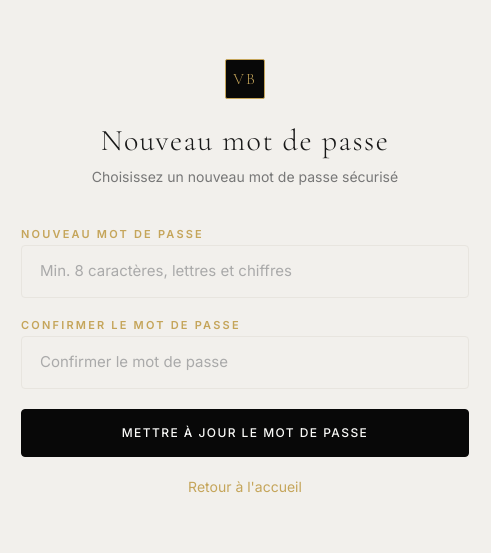
Page de changement du mot de passe › affiche en français le refus d un mot de passe compromis
In the password field labelled "Nouveau mot de passe": point(245, 272) [21,245,469,298], type "password123"
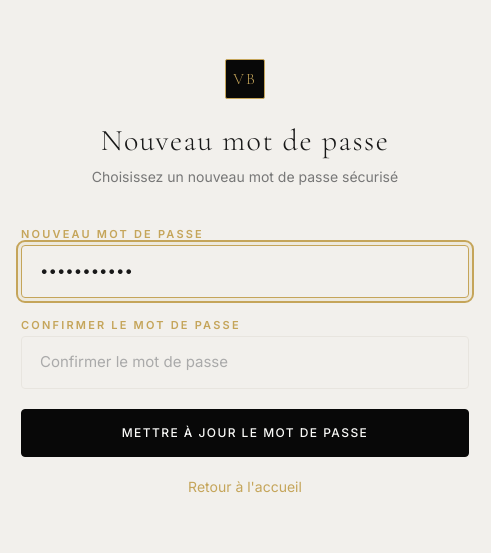
In the password field labelled "Confirmer le mot de passe": point(245, 363) [21,336,469,389], type "password123"
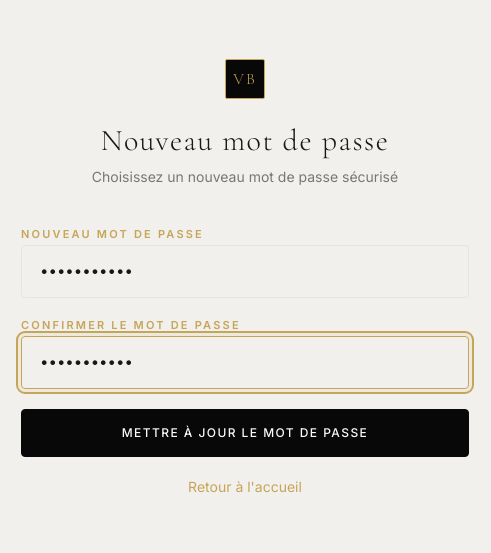
Click the button "Mettre à jour le mot de passe": point(245, 433) [21,409,469,457]
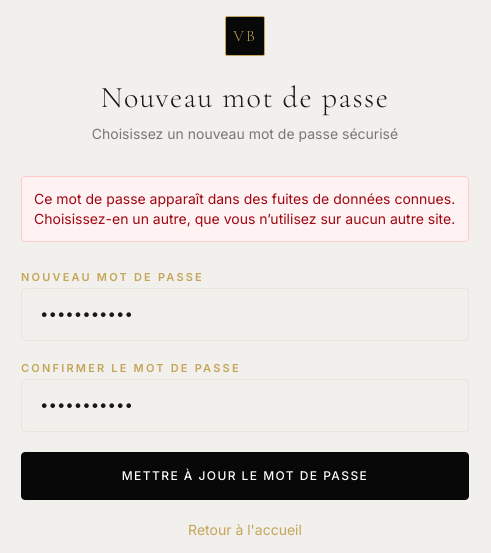
Result: the text "fuites de données connues" is shown at [34,190,455,227]
